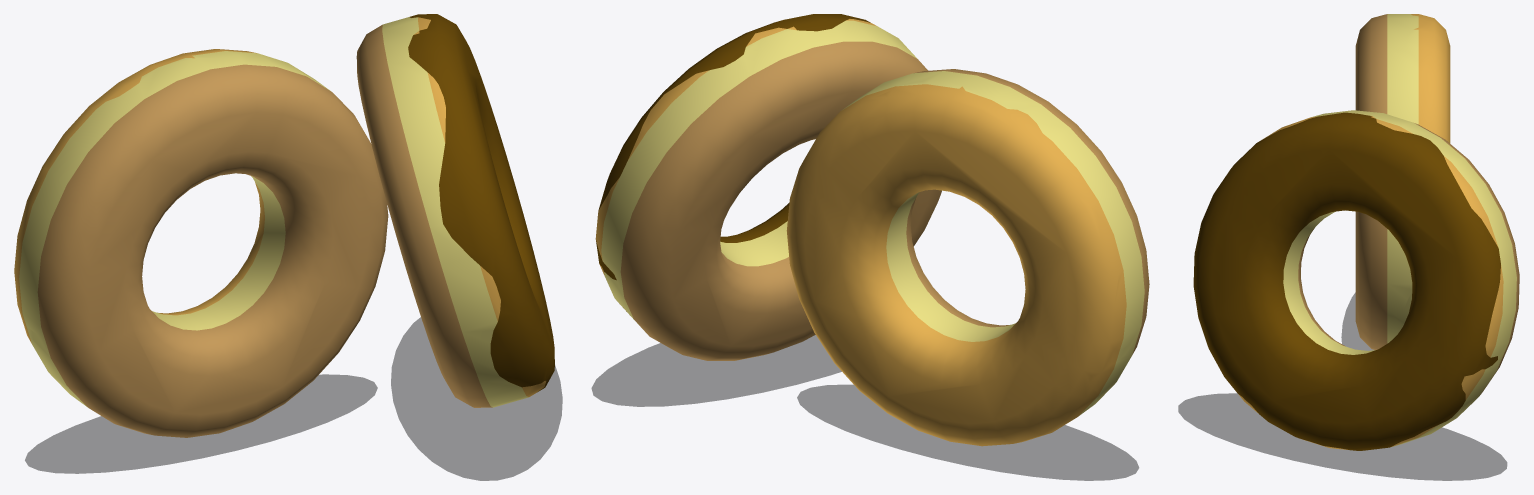
Rendered from Dounuts.glb.
The picture shows the model from 3 angles, left to right: view 1: azimuth 30°, elevation 25°; view 2: azimuth 150°, elevation 25°; view 3: azimuth 270°, elevation 25°; orthographic projection. The views are drawn at different scales.
Visible parts, largest first — view 1: 円柱, 円柱.001, 円; view 2: 円柱, 円柱.001, 円; view 3: 円柱.001, 円柱, 円.
Boxes of the visible parts, x1=… form: 円柱: x1=14, y1=49, x2=388, y2=437; 円柱.001: x1=356, y1=14, x2=554, y2=407; 円: x1=25, y1=317, x2=562, y2=480; 円柱: x1=786, y1=69, x2=1149, y2=446; 円柱.001: x1=595, y1=14, x2=941, y2=360; 円: x1=591, y1=335, x2=1138, y2=480; 円柱.001: x1=1193, y1=110, x2=1519, y2=450; 円柱: x1=1355, y1=14, x2=1450, y2=349; 円: x1=1178, y1=292, x2=1507, y2=480.
Bounding box in the file's own units: 3 × 2.01 × 2.01.
